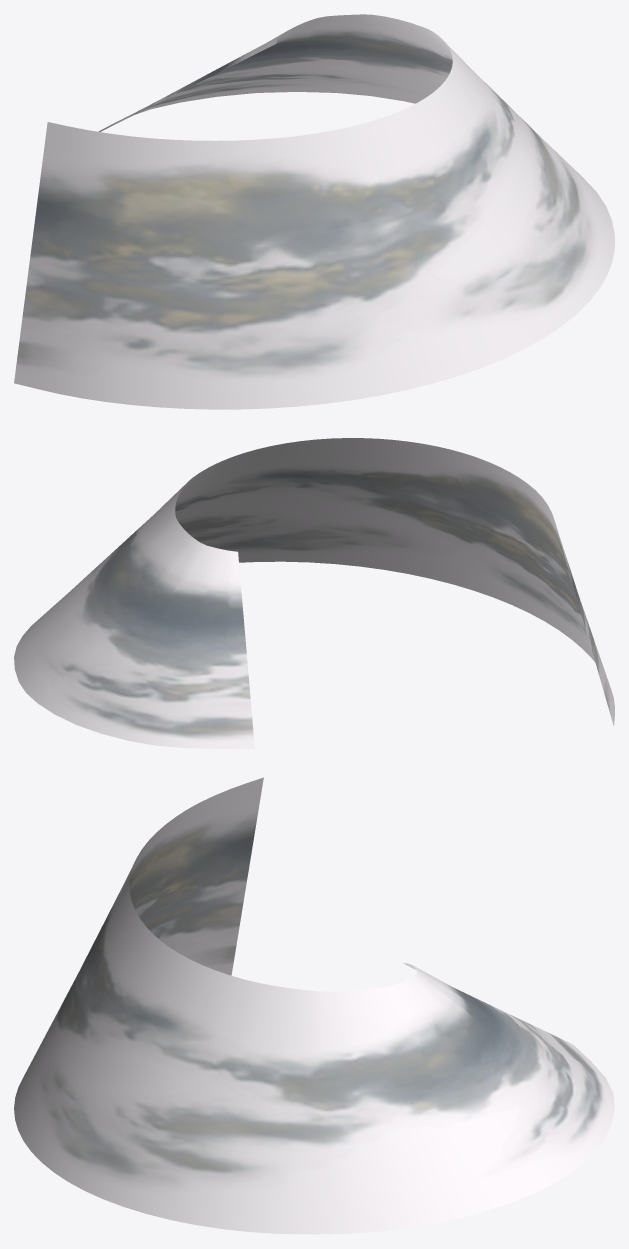
The picture shows the model from 3 angles, top to bottom: view 1: azimuth 30°, elevation 25°; view 2: azimuth 150°, elevation 25°; view 3: azimuth 270°, elevation 25°; orthographic projection. The views are drawn at different scales.
Visible parts, largest first — view 1: Plane001; view 2: Plane001; view 3: Plane001.
Part boxes in pixels (x1,y1,x2,y2): Plane001: (14,14,614,409); Plane001: (14,438,614,748); Plane001: (14,777,614,1234).
Bounding box in the file's own units: 124 × 45.73 × 112.
